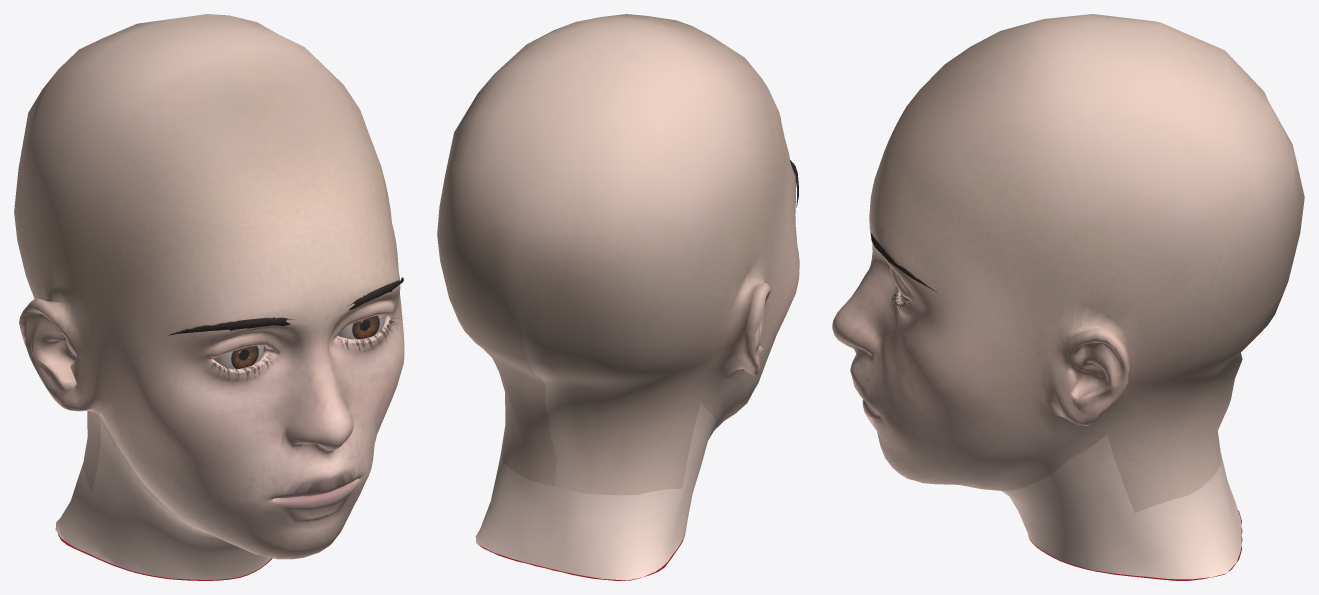
Rendered from daz_asian_head_base.glb.
3 views of the same model, side by side, from view 1: azimuth 30°, elevation 25°; view 2: azimuth 150°, elevation 25°; view 3: azimuth 270°, elevation 25° (orthographic). The views are drawn at different scales.
Parts seen in each view (by area): view 1: HeadSkin, Eyes, Eyebrows, Eyelashes; view 2: HeadSkin; view 3: HeadSkin.
Part boxes in pixels (box(x1,y1,x2,y2)): HeadSkin: box(14, 14, 404, 579); Eyes: box(212, 314, 385, 369); Eyebrows: box(168, 277, 403, 335); Eyelashes: box(211, 314, 395, 380); HeadSkin: box(437, 14, 799, 580); HeadSkin: box(832, 14, 1304, 579).
Size of the model in its own units: 0.1623 by 0.2341 by 0.1981.
8 materials, 7 textured.
